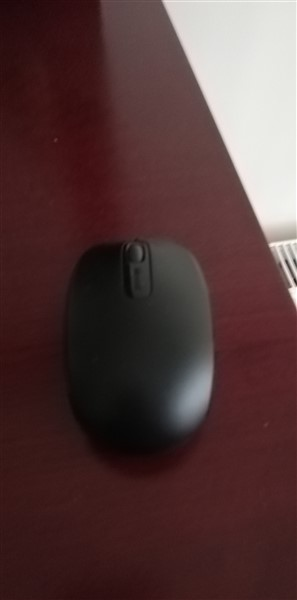mouse: (50, 230, 224, 462)
